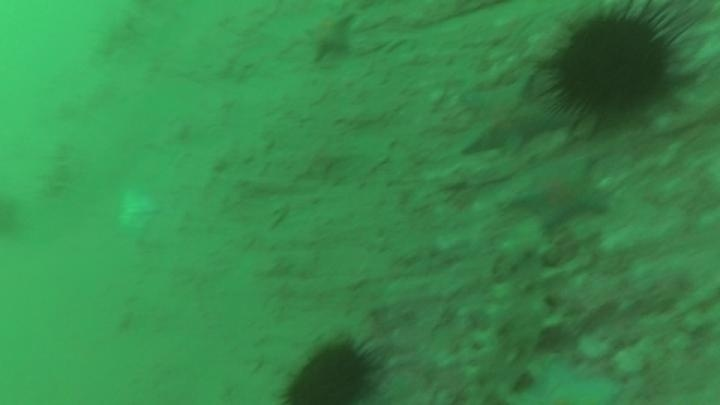echinus: (540, 5, 687, 131), (281, 335, 381, 405)
holothurian: (465, 217, 559, 402), (37, 139, 77, 201)
starfish: (456, 69, 571, 160), (506, 152, 614, 233), (517, 355, 625, 404), (298, 8, 360, 66)
